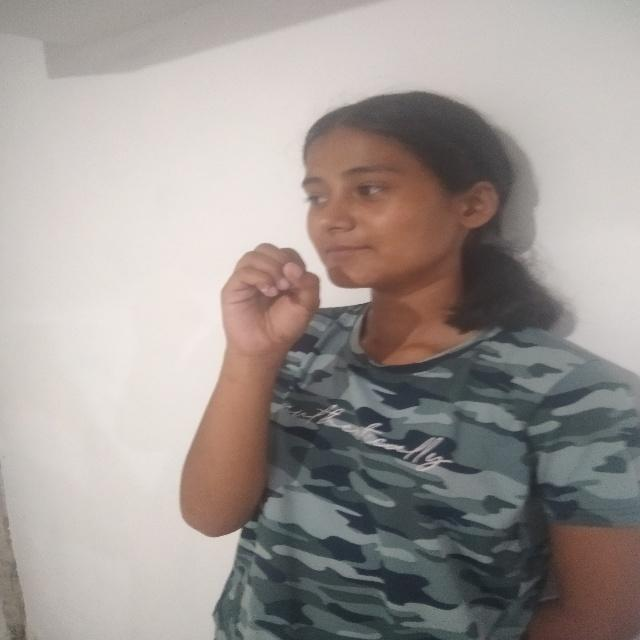Fist Mouth: (212, 91, 503, 390)
